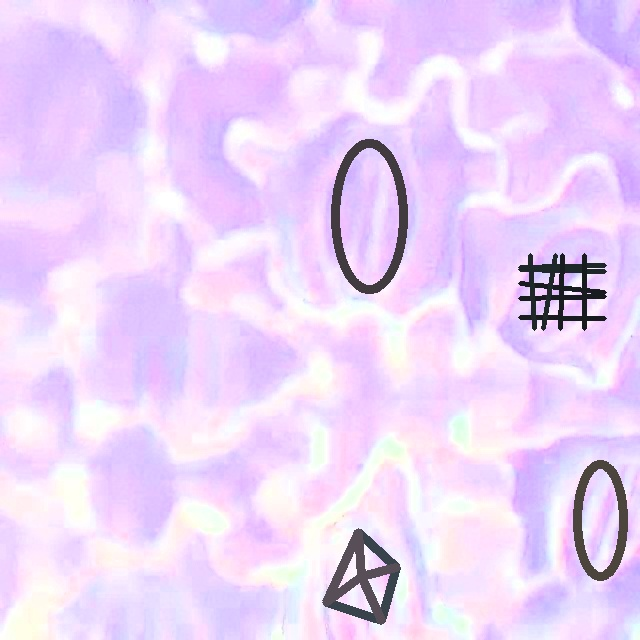open: (330, 139, 408, 293), (323, 529, 399, 623), (572, 458, 629, 581), (518, 253, 606, 330)
